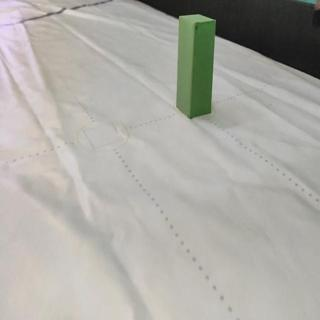greenbox: (177, 13, 216, 121)
